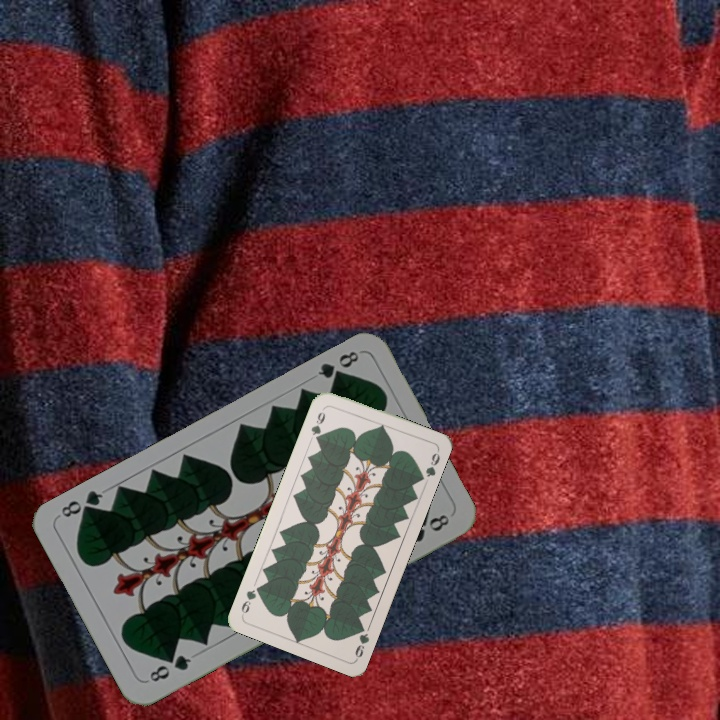G8: (313, 346, 362, 386), (145, 650, 194, 685)
G9: (351, 620, 372, 662), (307, 403, 328, 444)
